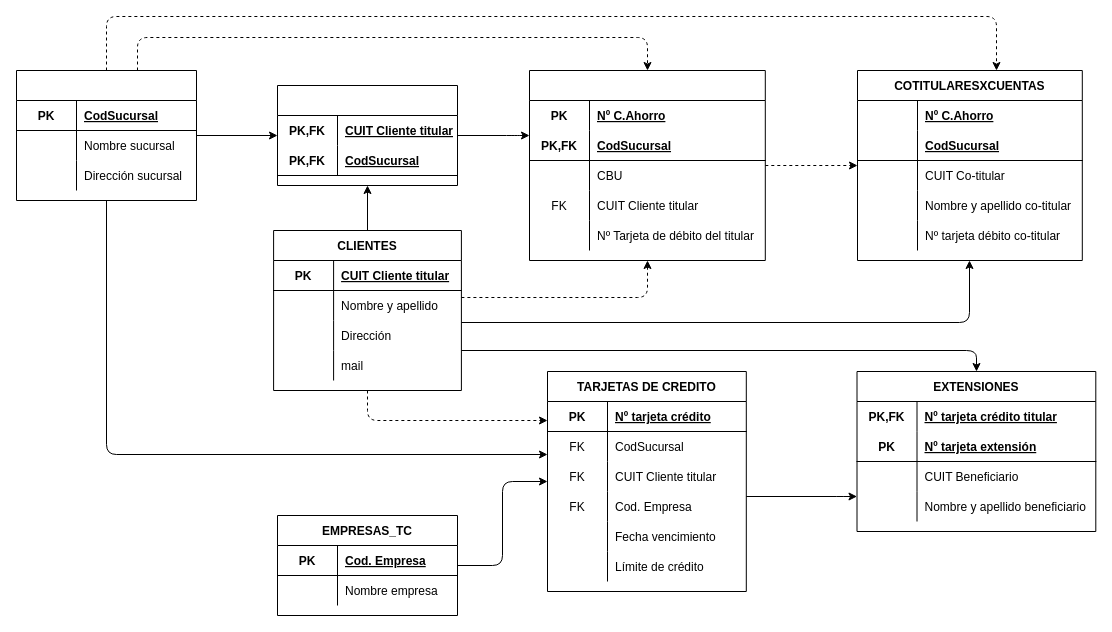
Some shapes in this 1112 by 632 pixel diagram are drawn without their labels. The shapes that lost their labels are listed below. From the top down, each one's box as (x1, y1, x2, y2) in pixels, then its label:
(16, 70, 196, 200): SUCURSALES
(276, 84, 458, 186): CLIENTESXSUCURSALES
(528, 70, 765, 260): CAXSUCXCLIENTES
